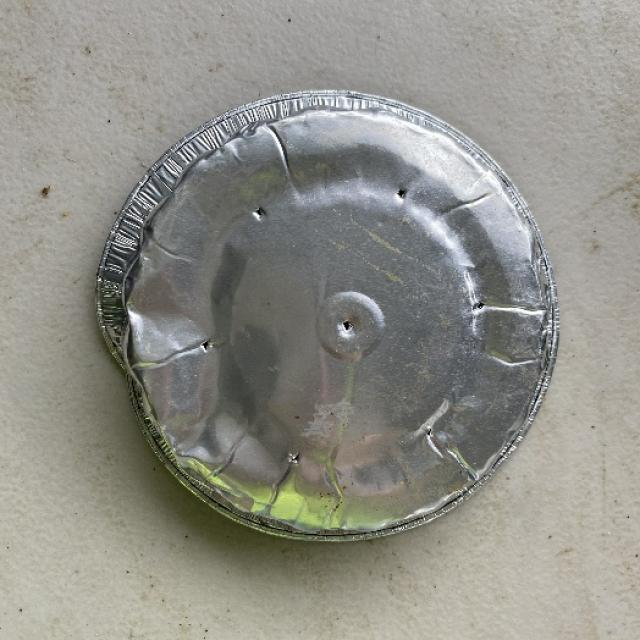kaleng: (98, 82, 574, 566)
